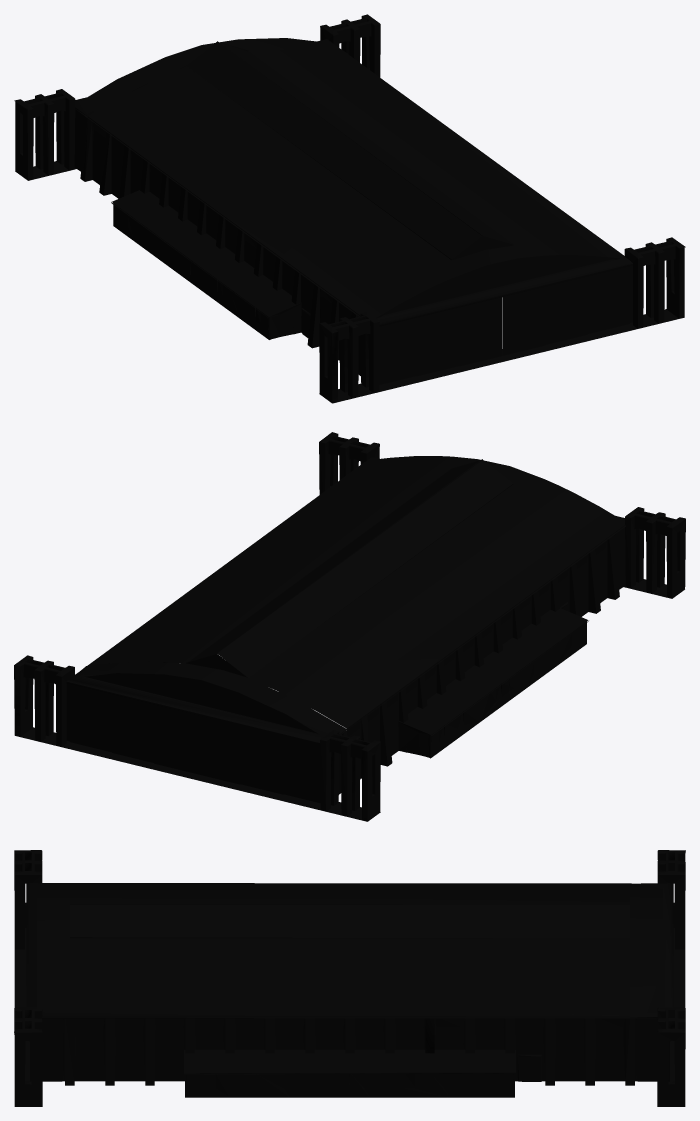
The model's file is hangar_arch_lod1.glb.
3 renders of one model, top to bottom at view 1: azimuth 30°, elevation 25°; view 2: azimuth 150°, elevation 25°; view 3: azimuth 270°, elevation 25°, orthographic. The views are drawn at different scales.
Visible parts, largest first — view 1: hangar_arch; view 2: hangar_arch; view 3: hangar_arch.
Part boxes in pixels (x1,y1,x2,y2): hangar_arch: (14,14,685,403); hangar_arch: (14,432,685,821); hangar_arch: (14,850,685,1106).
Size of the model in its own units: 35.1 by 10.06 by 54.64.
1 material, 1 textured.
